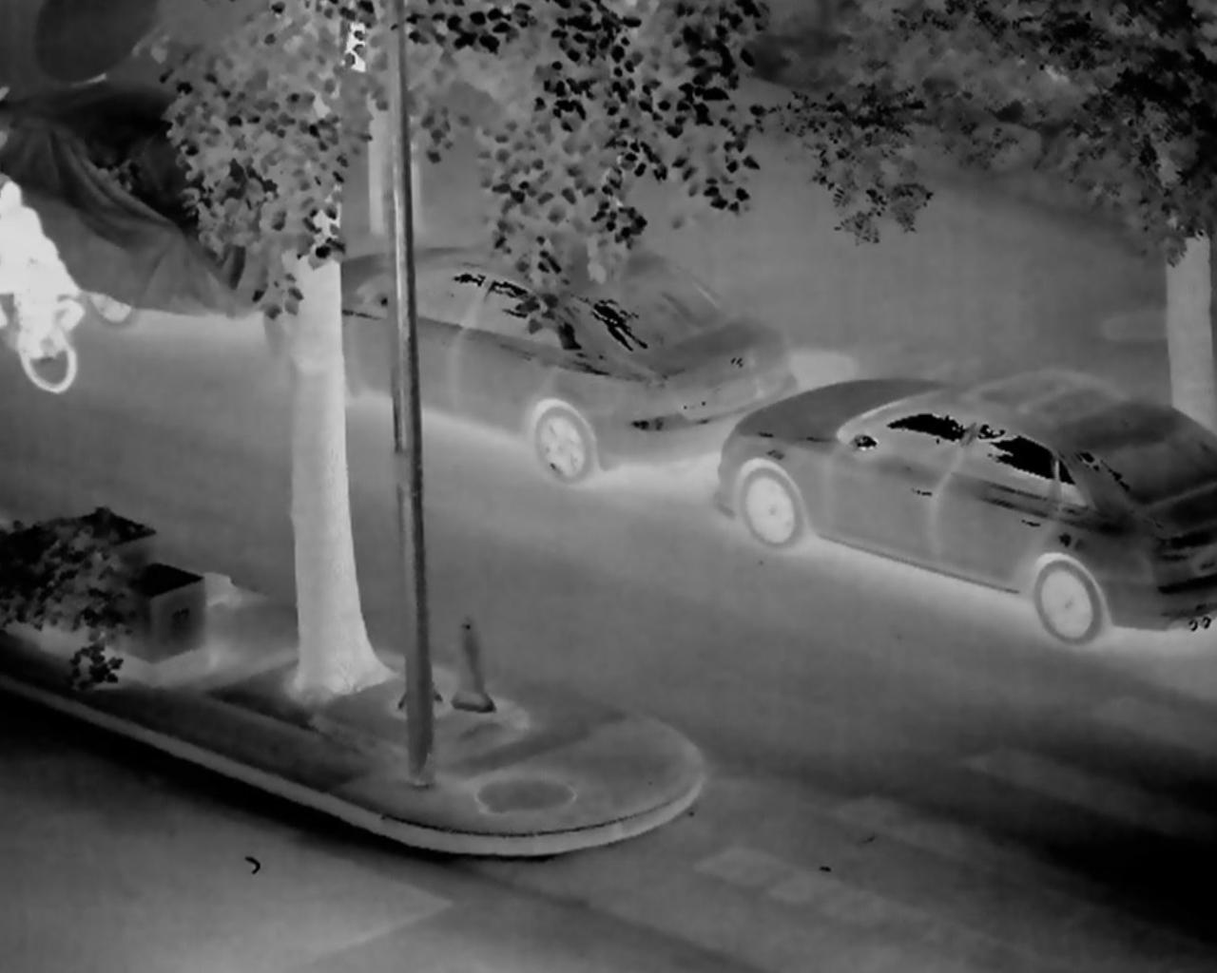person: (4, 174, 99, 387)
